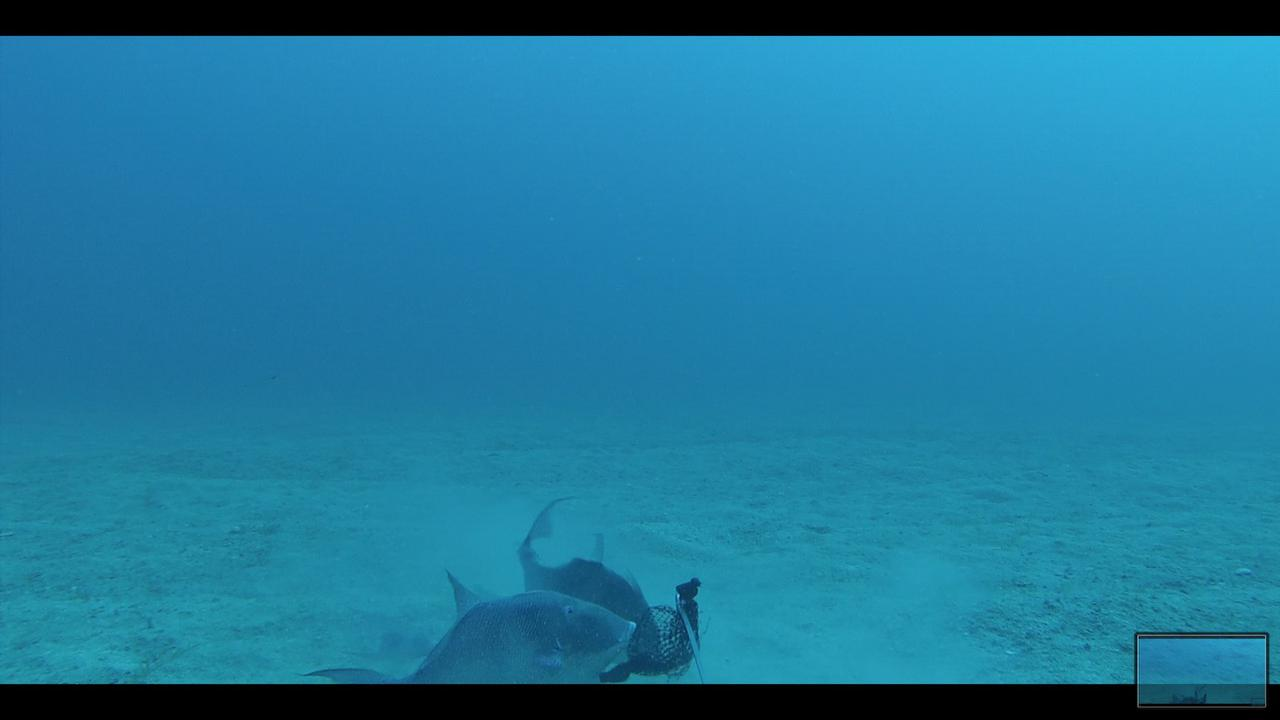balistes: (294, 560, 637, 682), (512, 488, 664, 647)
